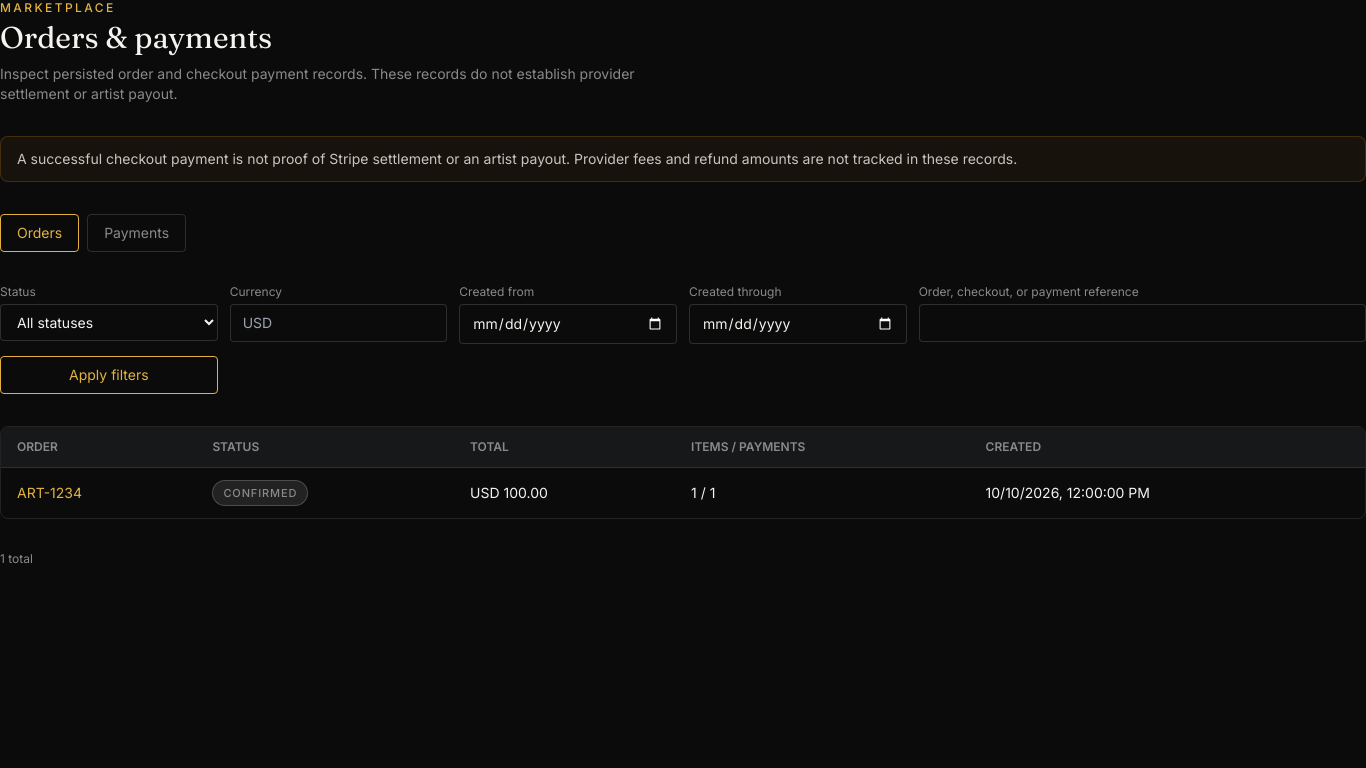
admin orders and payments page › loads order records and displays associated payment facts without implying settlement or payout
This screenshot has width=1366, height=768.
What coordinates should you click on to do the following:
click the button "ART-1234"
I would click on:
 (50, 493)
Its box is top-left (17, 483), bottom-right (82, 503).
(page scrolled)
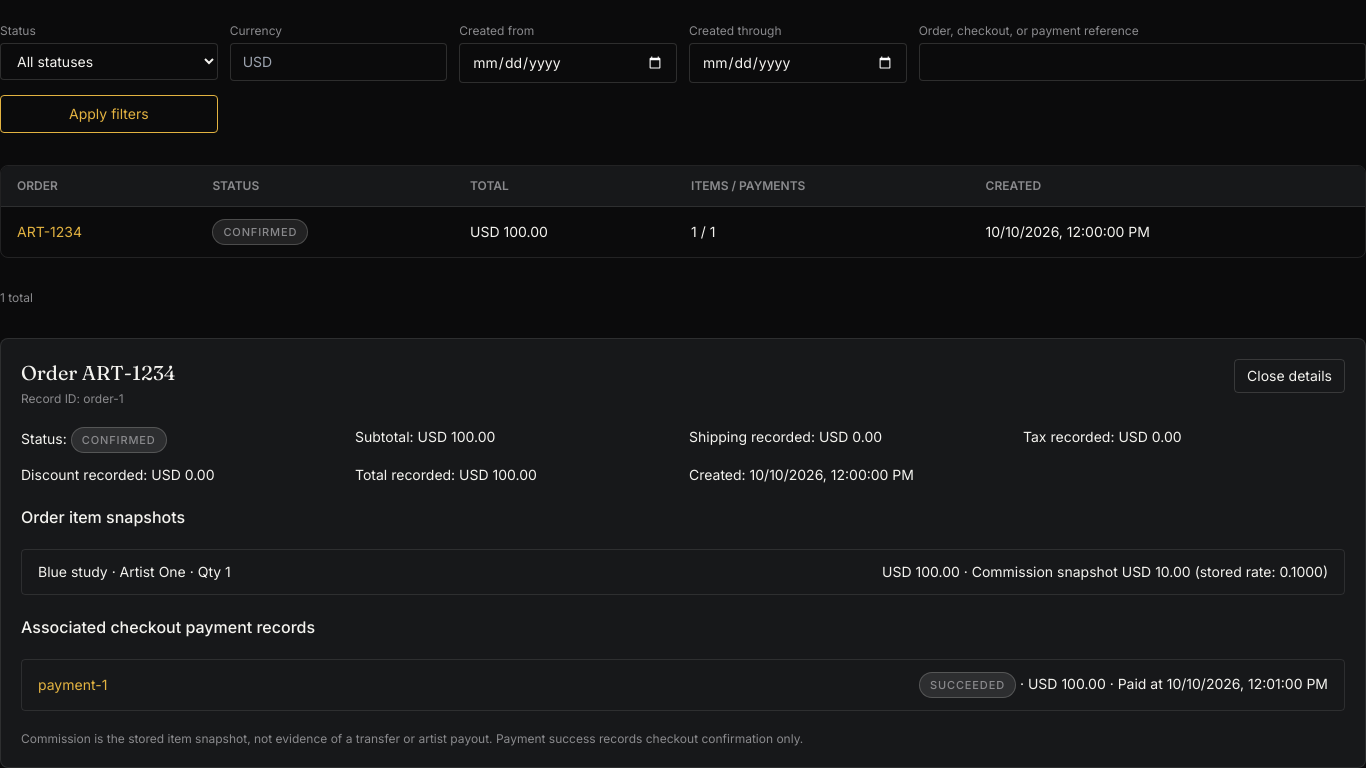
Expected: the text "Blue study · Artist One · Qty 1" is shown, top-left (38, 562), bottom-right (231, 582)
Expected: the text "Commission snapshot" is shown, top-left (960, 563), bottom-right (1122, 580)
Expected: the text "not evidence of a transfer or artist payout" is shown, top-left (21, 731), bottom-right (803, 746)
